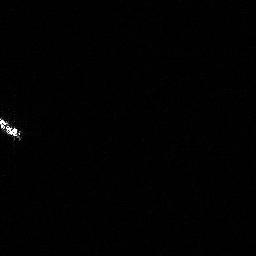ship: (1, 118, 21, 136)
